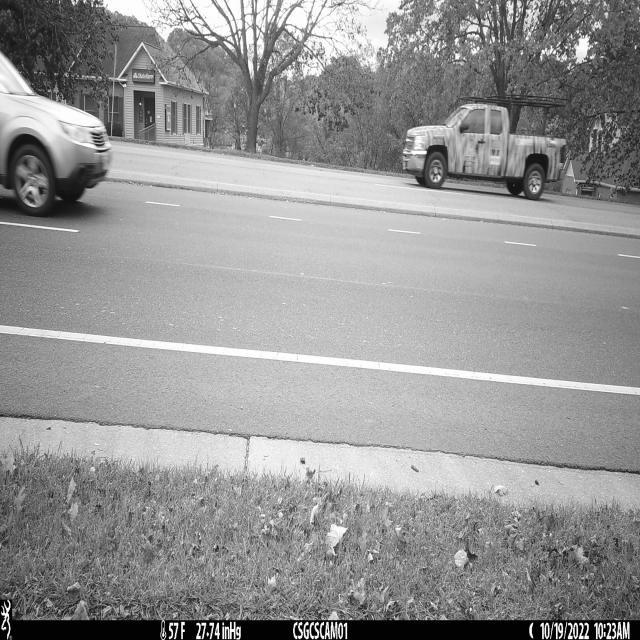Pickup: (402, 104, 567, 200)
